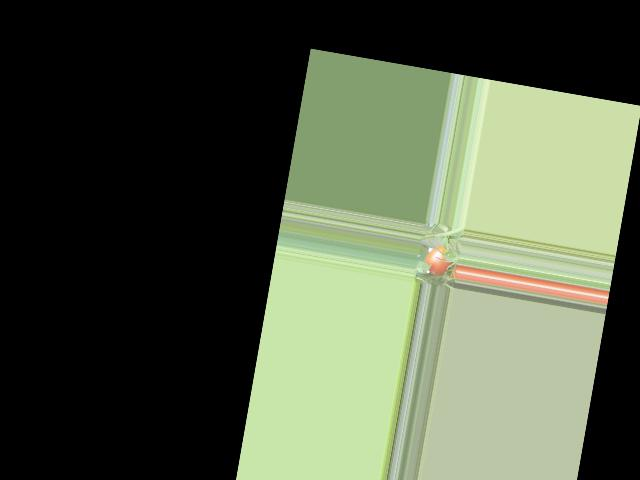tomato: (423, 243, 453, 277)
